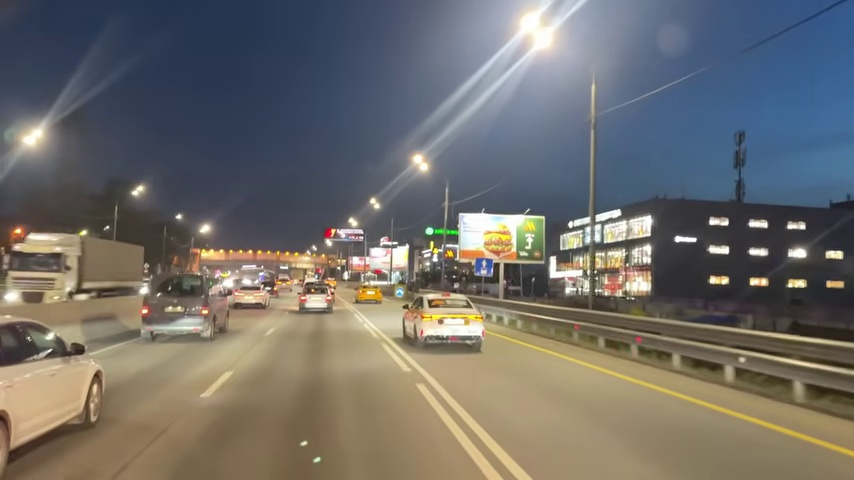acesa: (515, 7, 556, 52), (19, 125, 46, 151), (409, 152, 431, 175), (128, 182, 147, 201), (197, 222, 214, 238), (367, 196, 383, 212), (345, 216, 361, 231), (173, 211, 186, 225)
